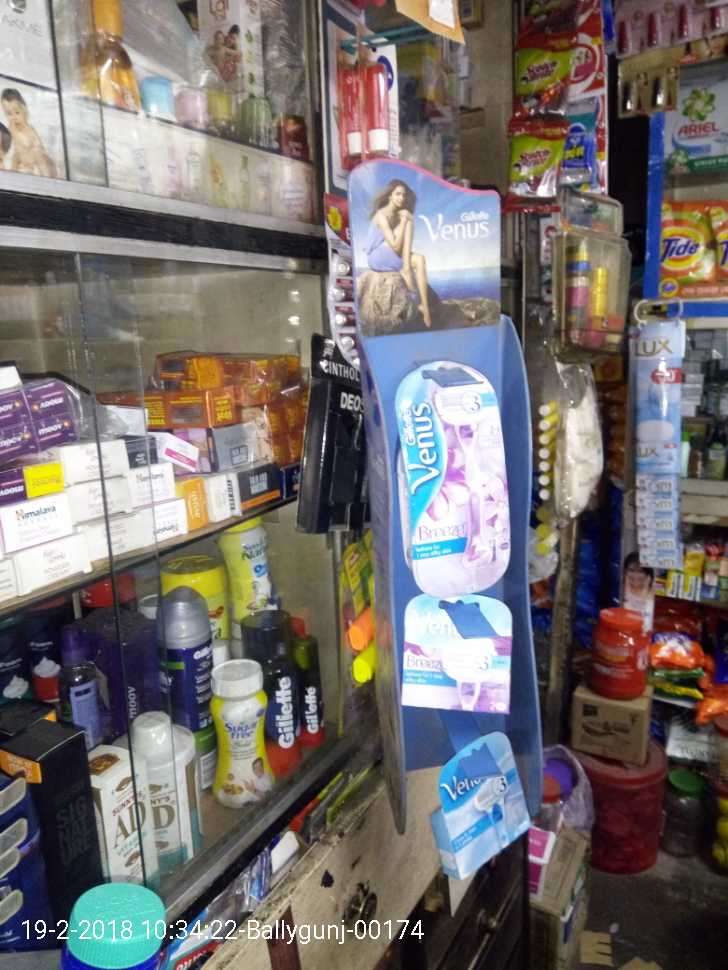beauty: (391, 357, 526, 593), (422, 741, 538, 872), (392, 585, 511, 710), (283, 629, 330, 744)
